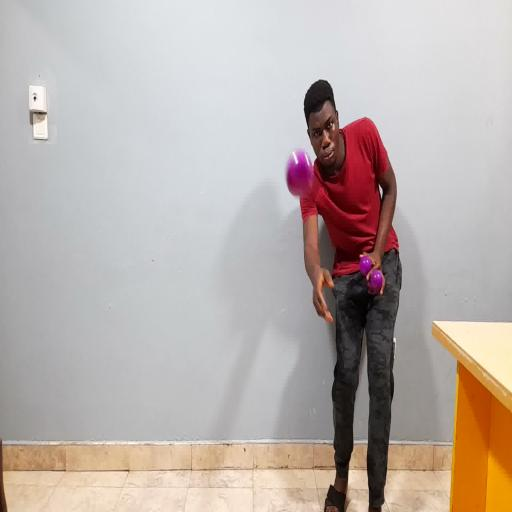plastic-ball: (286, 150, 313, 197)
